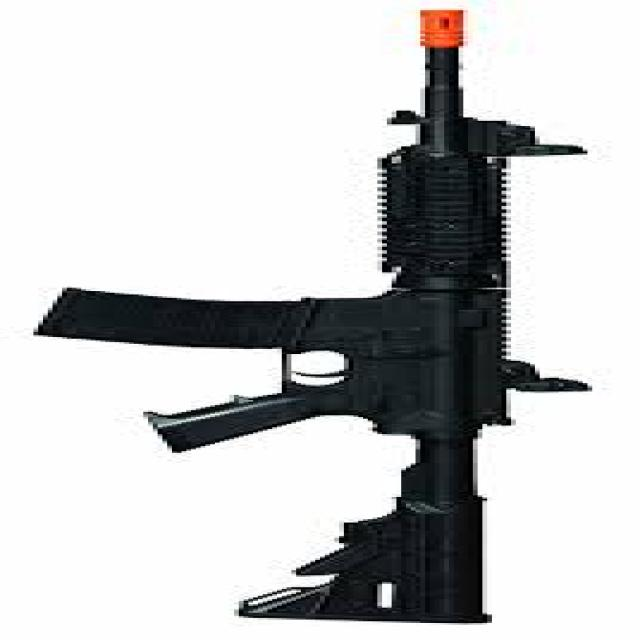rifle: (1, 1, 598, 636)
